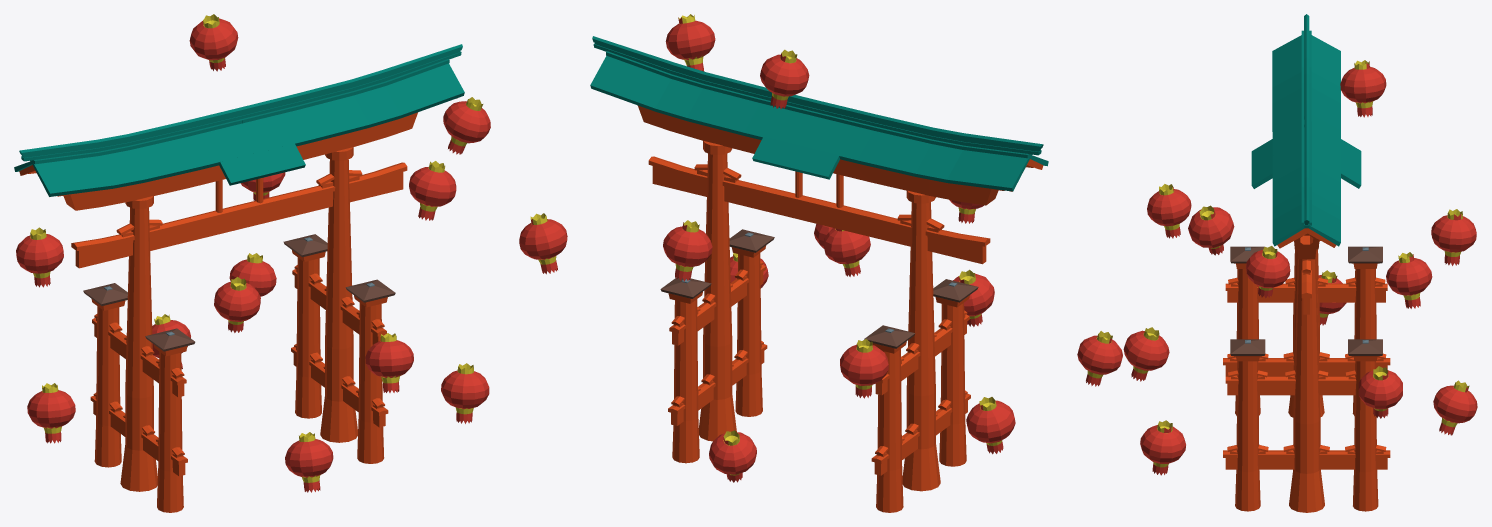
3 renders of one model, left to right at view 1: azimuth 30°, elevation 25°; view 2: azimuth 150°, elevation 25°; view 3: azimuth 270°, elevation 25°, orthographic. The views are drawn at different scales.
Visible parts, largest first — view 1: node_MeshObject-223652160-PolyPaper8, node_MeshObject1187301248-PolyPaper23, node_MeshObject1706021312-PolyPaper23; view 2: node_MeshObject-223652160-PolyPaper8, node_MeshObject1187301248-PolyPaper23, node_MeshObject1706021312-PolyPaper23; view 3: node_MeshObject-223652160-PolyPaper8, node_MeshObject1187301248-PolyPaper23, node_MeshObject1706021312-PolyPaper23.
Part boxes in pixels (box(x1,y1,x2,y2)): node_MeshObject-223652160-PolyPaper8: box(14, 44, 464, 512); node_MeshObject1187301248-PolyPaper23: box(27, 14, 490, 492); node_MeshObject1706021312-PolyPaper23: box(16, 227, 190, 357); node_MeshObject-223652160-PolyPaper8: box(519, 36, 1048, 512); node_MeshObject1187301248-PolyPaper23: box(663, 14, 1015, 454); node_MeshObject1706021312-PolyPaper23: box(709, 339, 888, 474); node_MeshObject-223652160-PolyPaper8: box(1147, 14, 1457, 512); node_MeshObject1187301248-PolyPaper23: box(1077, 60, 1432, 475); node_MeshObject1706021312-PolyPaper23: box(1431, 209, 1477, 423).
Bounding box in the file's own units: 6.06 × 5.17 × 4.69.
